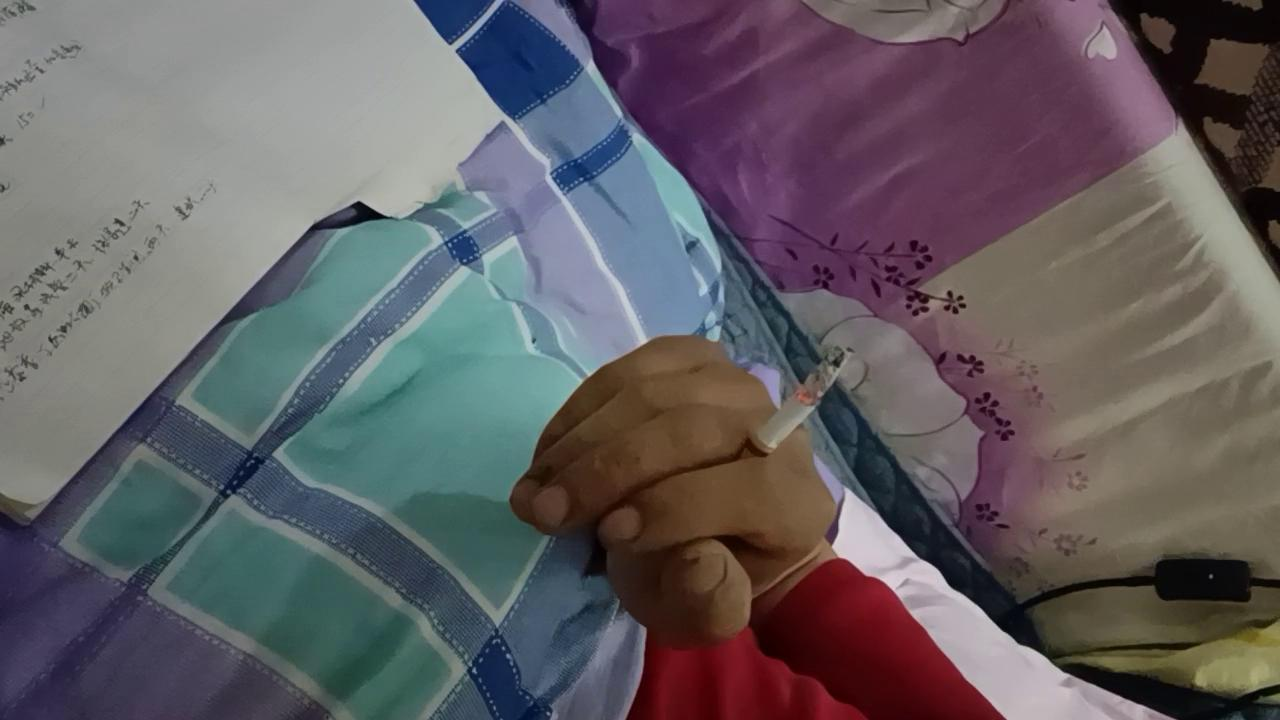smoke: (724, 344, 852, 489)
